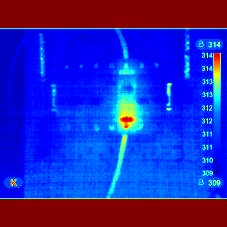High: (111, 103, 148, 139)
